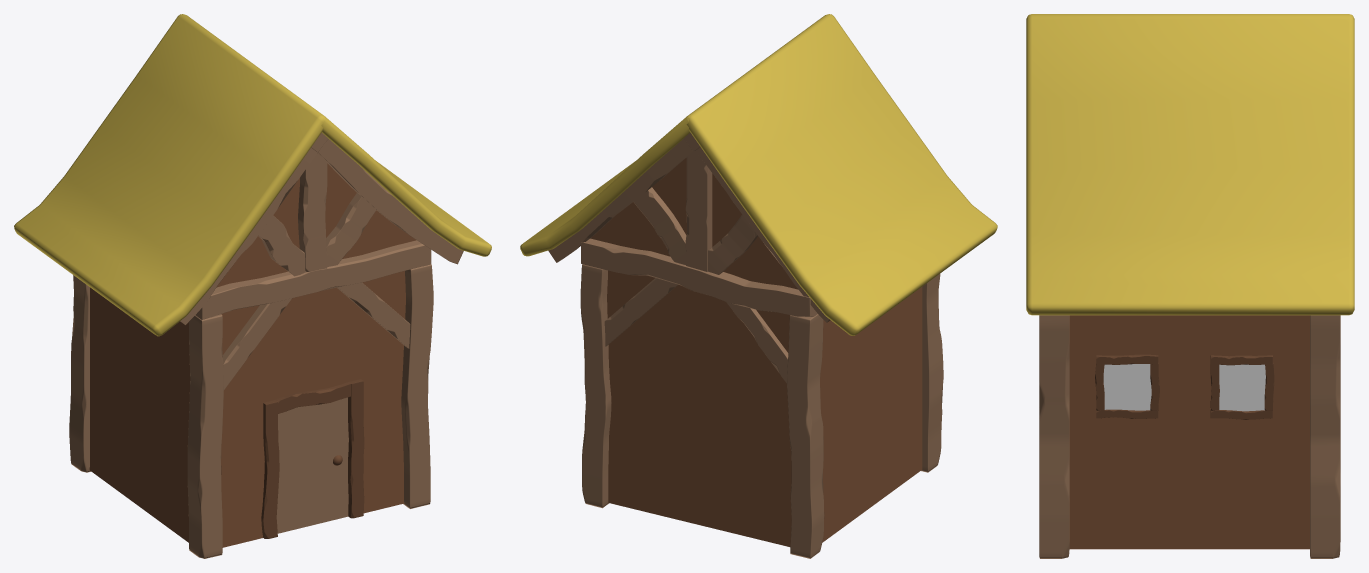
The model's file is FarmerHouse.fbx.
3 views of the same model, side by side, from view 1: azimuth 30°, elevation 25°; view 2: azimuth 150°, elevation 25°; view 3: azimuth 270°, elevation 25° (orthographic). The views are drawn at different scales.
Parts seen in each view (by area): view 1: Roof2, Wall_front, Wall_left, Door, HousePillar, HousePillar2, HousePillar5, Roof, HousePillar4, HousePillar2.003, HousePillar2.005, DoorFrame.001 (+7 smaller); view 2: Roof2, Wall_back, Wall_left, HousePillar4, HousePillar3, HousePillar6, Roof, HousePillar, HousePillar2.010, HousePillar2.008, HousePillar2.011, HousePillar2.014 (+3 smaller); view 3: Roof, Wall_right, HousePillar2, HousePillar3, Window2, Window, Roof2, WindowFrame.003, WindowFrame.007, WindowFrame.008, WindowFrame.004, WindowFrame.009 (+3 smaller).
Part boxes in pixels (x1,y1,x2,y2): Roof2: [14, 14, 323, 336]; Wall_front: [216, 163, 416, 547]; Wall_left: [89, 287, 190, 542]; Door: [276, 397, 348, 533]; HousePillar: [187, 314, 223, 558]; HousePillar2: [401, 264, 433, 508]; HousePillar5: [195, 240, 431, 319]; Roof: [182, 14, 491, 256]; HousePillar4: [69, 275, 90, 472]; HousePillar2.003: [318, 139, 463, 264]; HousePillar2.005: [298, 153, 327, 271]; DoorFrame.001: [348, 379, 364, 518]; Roof2: [686, 14, 997, 335]; Wall_back: [590, 158, 797, 546]; Wall_left: [820, 287, 922, 542]; HousePillar4: [787, 314, 824, 558]; HousePillar3: [580, 264, 611, 508]; HousePillar6: [581, 238, 817, 316]; Roof: [520, 14, 829, 256]; HousePillar: [921, 274, 943, 472]; HousePillar2.010: [685, 151, 712, 271]; HousePillar2.008: [548, 138, 693, 262]; HousePillar2.011: [633, 187, 686, 264]; HousePillar2.014: [604, 278, 677, 346]; Roof: [1026, 15, 1354, 315]; Wall_right: [1069, 315, 1309, 548]; HousePillar2: [1039, 315, 1069, 558]; HousePillar3: [1310, 315, 1340, 558]; Window2: [1103, 364, 1151, 410]; Window: [1219, 364, 1265, 411]; Roof2: [1026, 14, 1354, 19]; WindowFrame.003: [1096, 354, 1158, 364]; WindowFrame.007: [1210, 355, 1272, 365]; WindowFrame.008: [1210, 410, 1272, 419]; WindowFrame.004: [1096, 409, 1158, 418]; WindowFrame.009: [1210, 364, 1219, 410].
Bounding box in the file's own units: 276 × 327 × 202.
